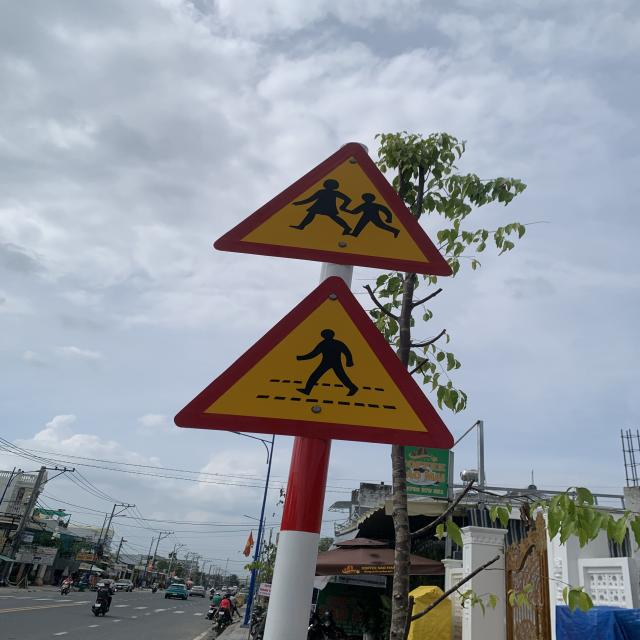Duong_Nguoi_Di_Bo_Sang_Ngang: (172, 275, 454, 449)
Vong_Xuyen: (213, 142, 450, 276)
